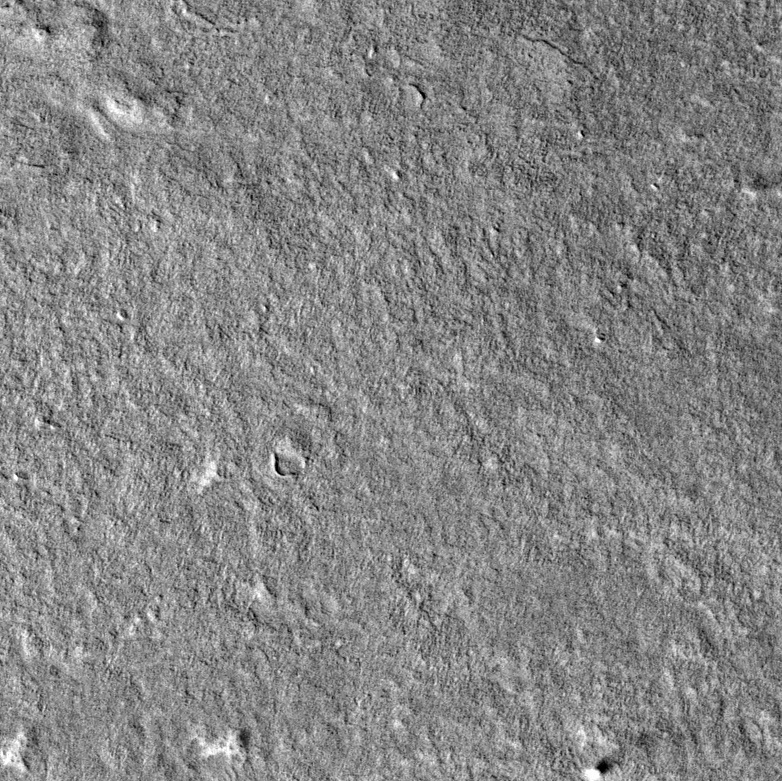dust_devil: (583, 747, 626, 781)
